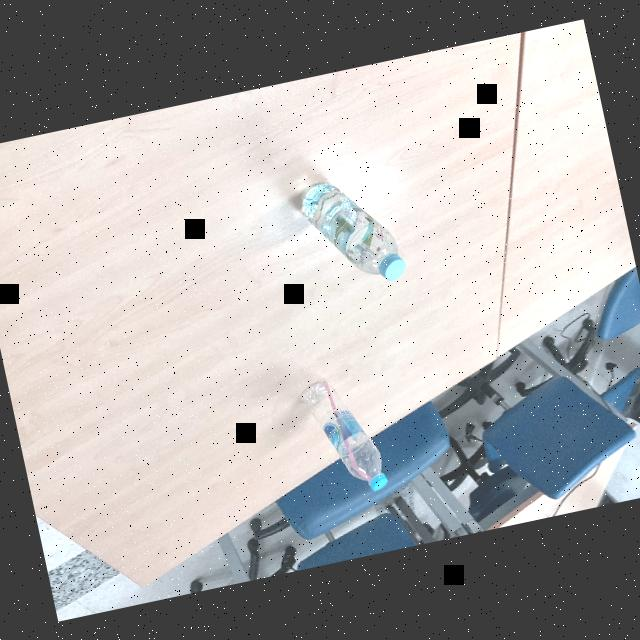plastic_bottle: (289, 167, 412, 298), (287, 368, 388, 504)
plastic_bottle_cap: (374, 251, 407, 283), (364, 470, 388, 490)
straw: (321, 376, 370, 486)
